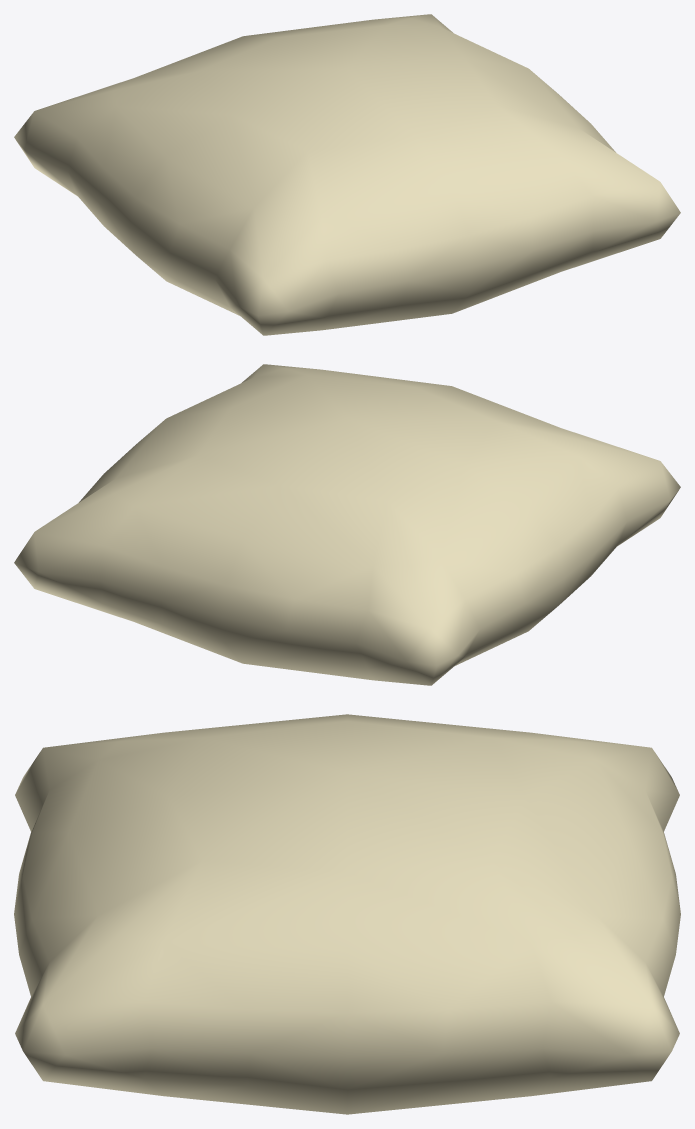
The model's file is rmk_oth_cushion.dae.
3 renders of one model, top to bottom at view 1: azimuth 30°, elevation 25°; view 2: azimuth 150°, elevation 25°; view 3: azimuth 270°, elevation 25°, orthographic. The views are drawn at different scales.
Parts seen in each view (by area): view 1: rmk_oth_cushion; view 2: rmk_oth_cushion; view 3: rmk_oth_cushion.
Part boxes in pixels (x1,y1,x2,y2): rmk_oth_cushion: (14,14,680,335); rmk_oth_cushion: (14,364,680,685); rmk_oth_cushion: (14,714,680,1114).
Size of the model in its own units: 21.39 by 9.96 by 21.39.
Materials: 1 (1 with a texture image).
